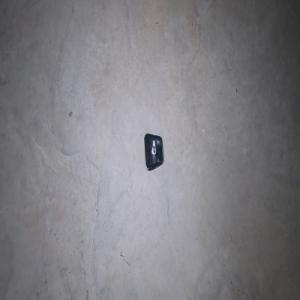LuggagePart: (143, 132, 164, 171)
